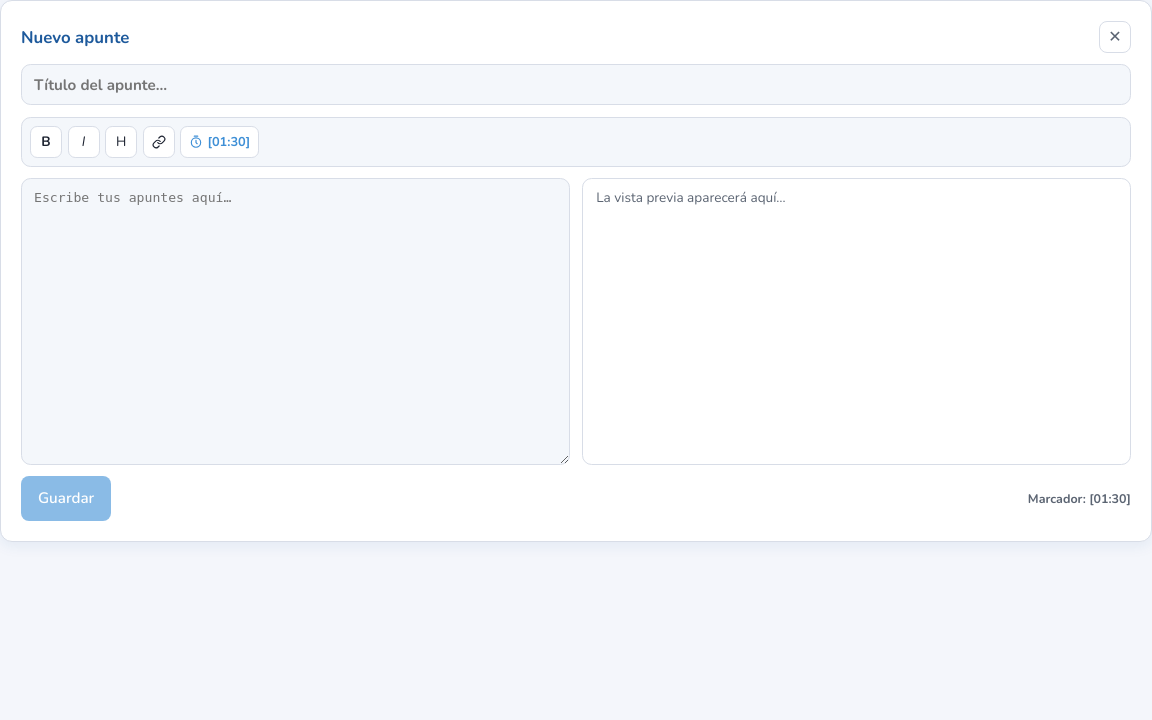
Test: ApunteEditor › aplica formato Markdown sobre el texto seleccionado
Type "concepto" into the text box with placeholder "Escribe tus apuntes aquí…".
click(296, 321); type("concepto")  # box [21,178,570,465]
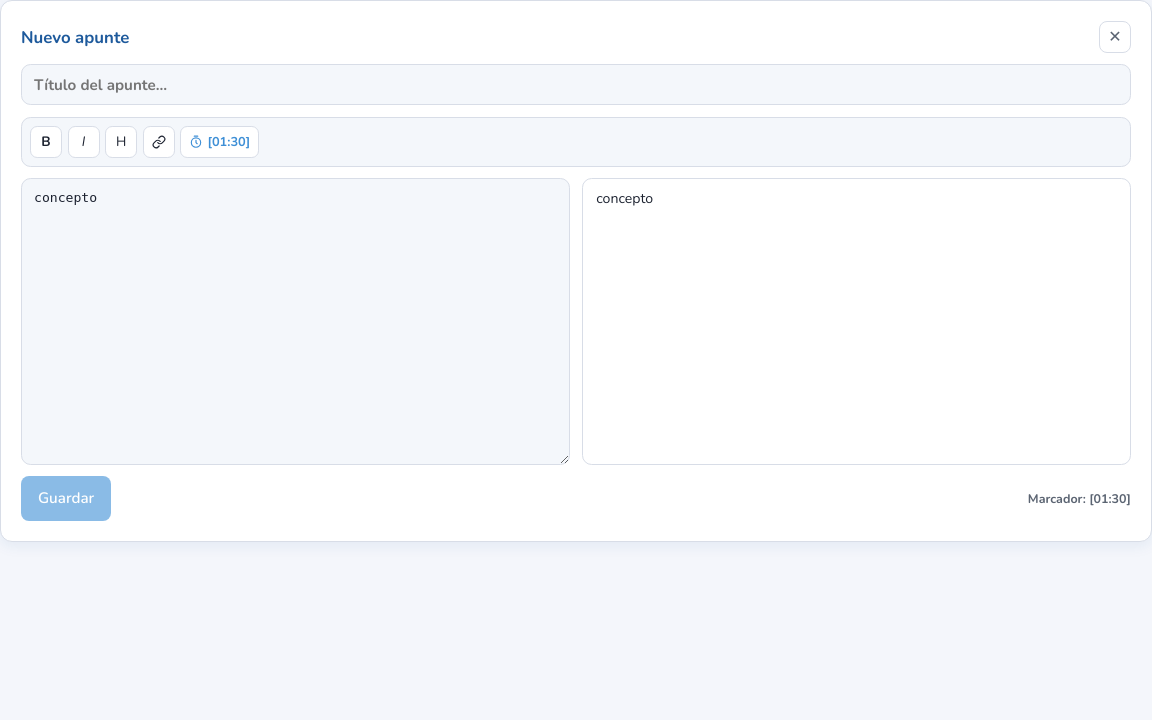
Click the button titled "Negrita".
click(46, 142)  # box [30,126,62,158]
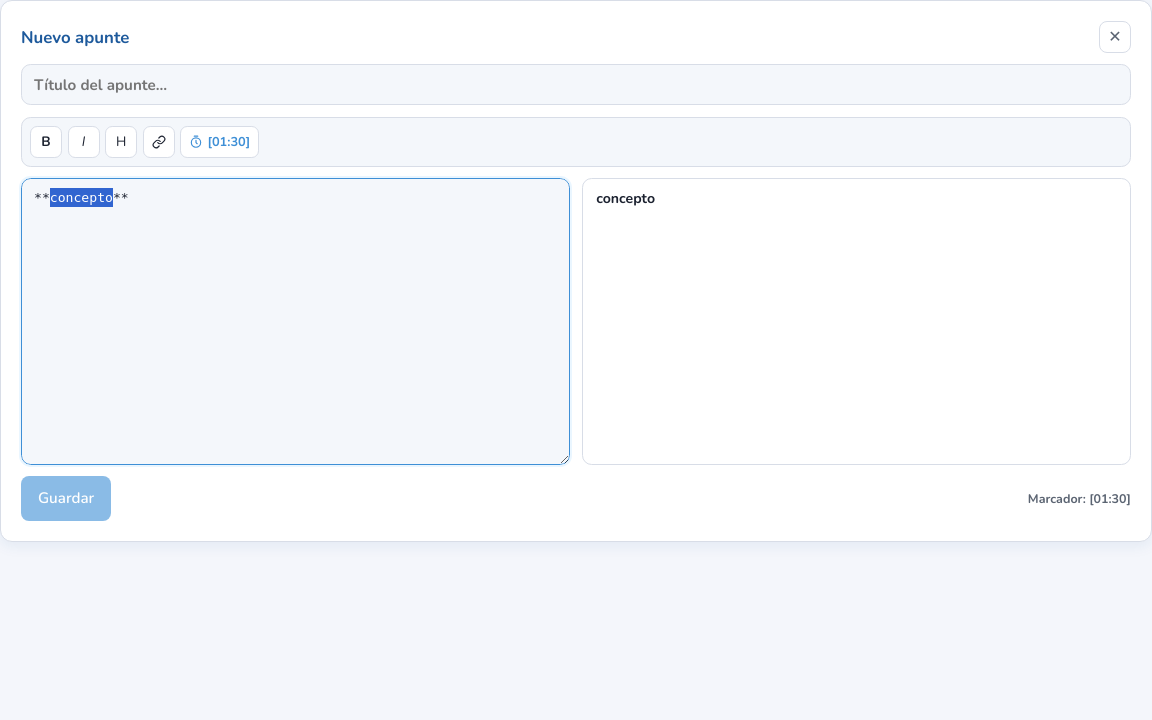
Expected: the text box with placeholder "Escribe tus apuntes aquí…" holds "**concepto**", [21,178,570,465]
